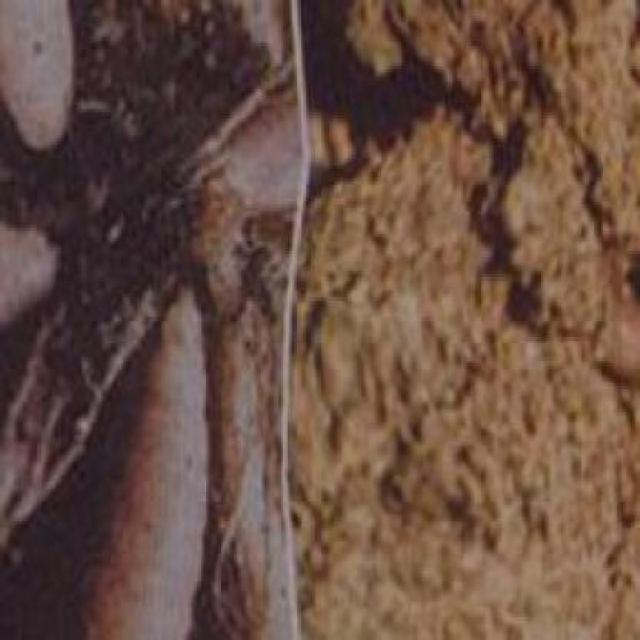whorl-maggot: (84, 290, 212, 640), (0, 0, 77, 145)
